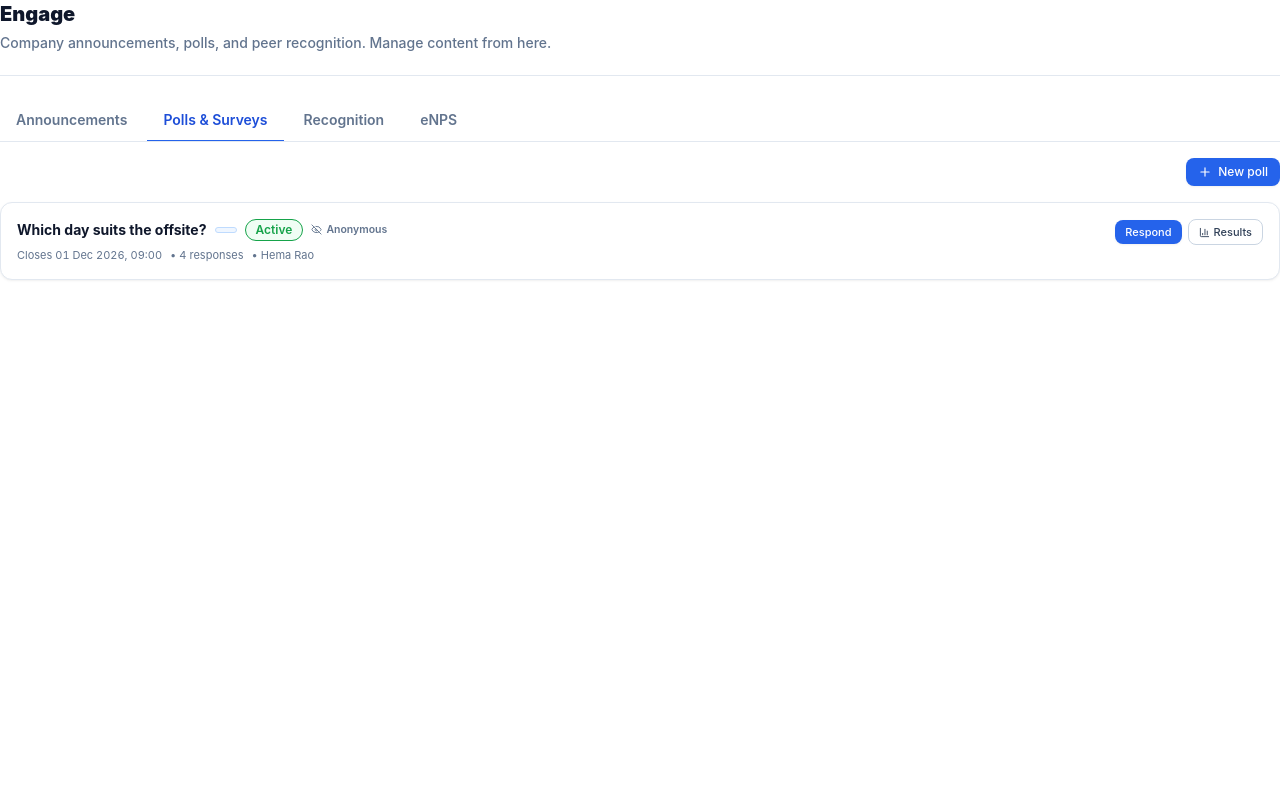
Scenario: polls › an anonymous poll says what anonymity does and does not hide
The width and height of the screenshot is (1280, 800).
Click the button "Respond": (1148, 232) [1115,220,1182,244]
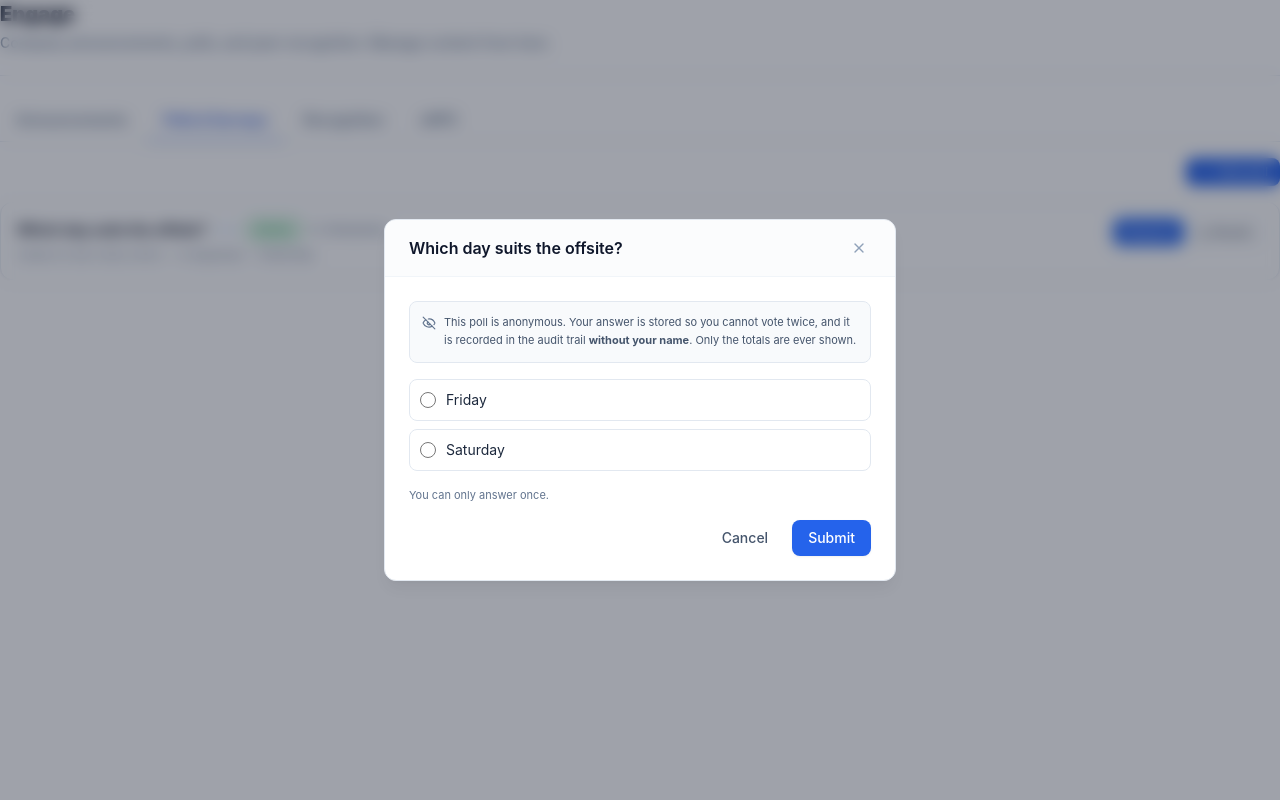
Result: the text "without your name" is shown at [589,333,689,347]
Result: the text "cannot vote twice" is shown at [444,315,850,347]
